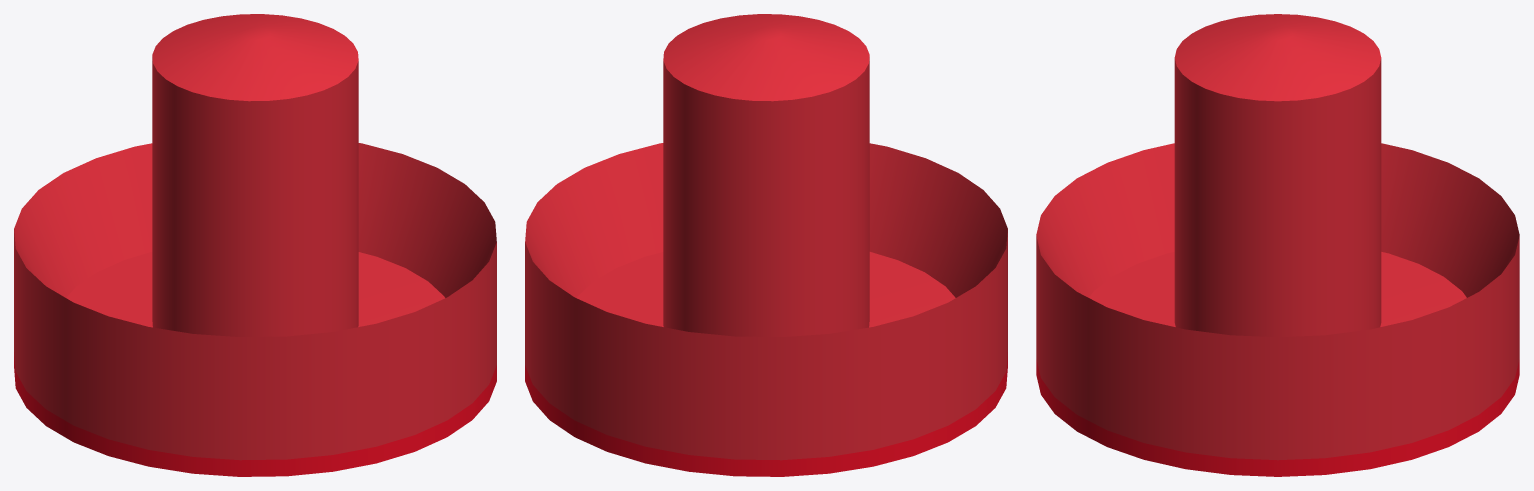
Rendered from Paddle.fbx.
3 renders of one model, left to right at view 1: azimuth 30°, elevation 25°; view 2: azimuth 150°, elevation 25°; view 3: azimuth 270°, elevation 25°, orthographic.
Visible parts, largest first — view 1: Circle.001; view 2: Circle.001; view 3: Circle.001.
Boxes of the visible parts, x1=… form: Circle.001: x1=14, y1=14, x2=496, y2=476; Circle.001: x1=525, y1=14, x2=1007, y2=476; Circle.001: x1=1036, y1=14, x2=1519, y2=476.
Size of the model in its own units: 0.403 by 0.3133 by 0.403.
